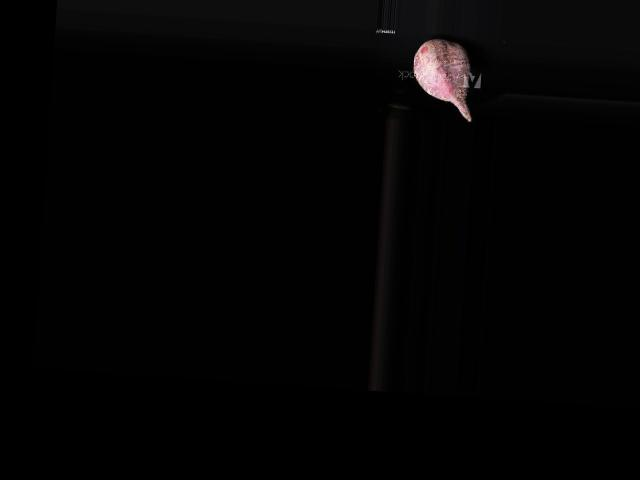beet: (409, 37, 475, 121)
